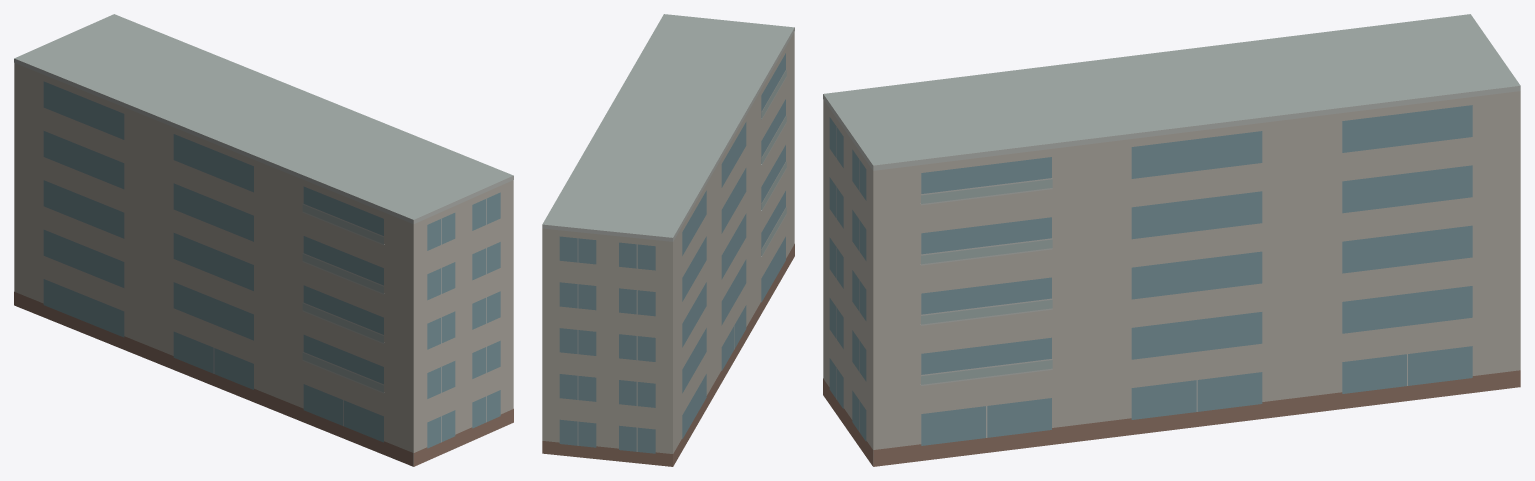
Rendered from survey-upis-32607968.glb.
The picture shows the model from 3 angles, left to right: view 1: azimuth 30°, elevation 25°; view 2: azimuth 150°, elevation 25°; view 3: azimuth 270°, elevation 25°; orthographic projection. The views are drawn at different scales.
Parts seen in each view (by area): view 1: survey-upis-32607968.tmp; view 2: survey-upis-32607968.tmp; view 3: survey-upis-32607968.tmp.
Part boxes in pixels (x1,y1,x2,y2): survey-upis-32607968.tmp: [14, 14, 513, 466]; survey-upis-32607968.tmp: [542, 14, 794, 466]; survey-upis-32607968.tmp: [823, 14, 1520, 466].
Bounding box in the file's own units: 15.01 × 13.9 × 29.18.
